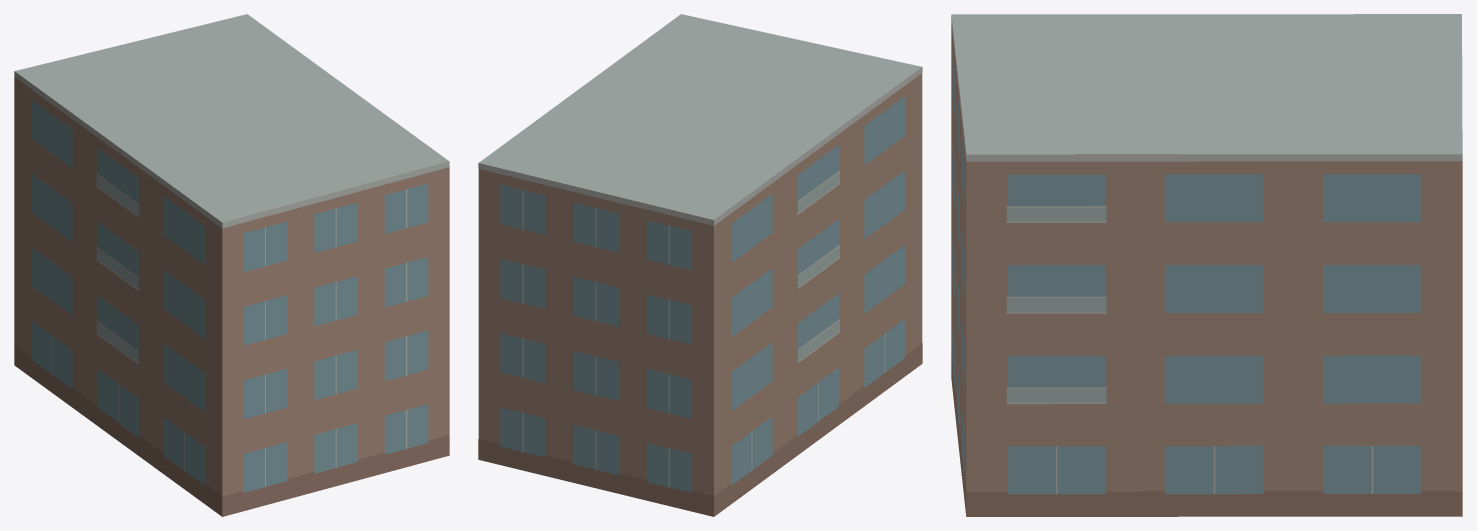
File: survey-upis-32704605.glb
3 views of the same model, side by side, from view 1: azimuth 30°, elevation 25°; view 2: azimuth 150°, elevation 25°; view 3: azimuth 270°, elevation 25° (orthographic). The views are drawn at different scales.
Visible parts, largest first — view 1: survey-upis-32704605.tmp; view 2: survey-upis-32704605.tmp; view 3: survey-upis-32704605.tmp.
Part boxes in pixels (x1,y1,x2,y2): survey-upis-32704605.tmp: (14,14,449,516); survey-upis-32704605.tmp: (478,14,922,516); survey-upis-32704605.tmp: (951,14,1462,516).
Bounding box in the file's own units: 10.38 × 12.4 × 15.87.
